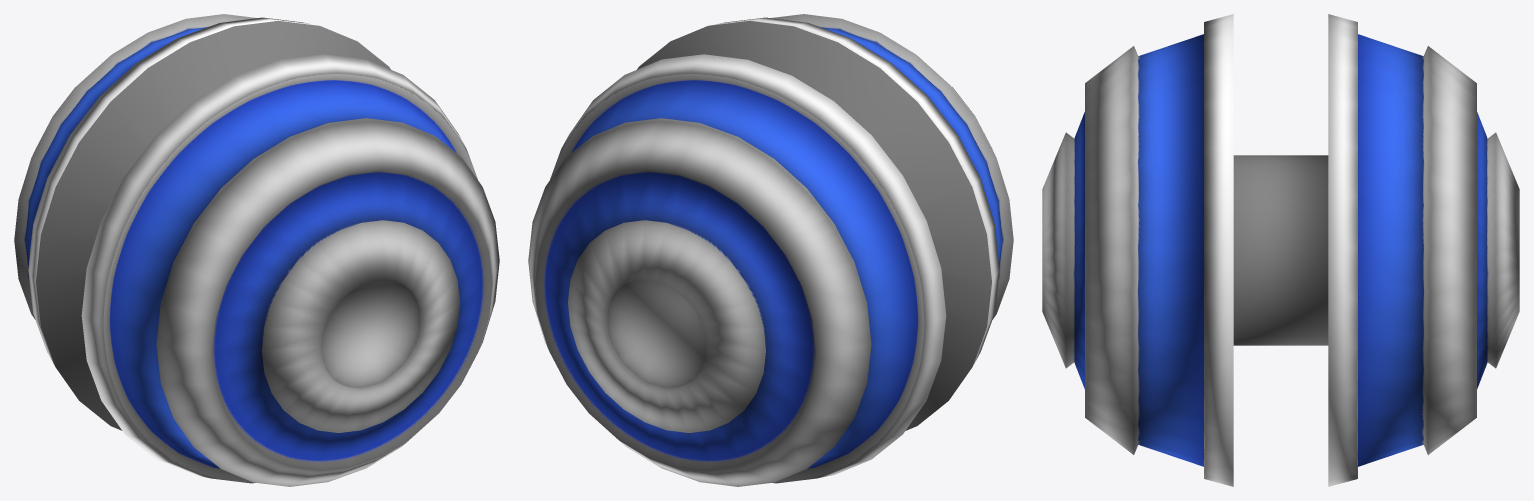
Rendered from SplitMetalBall.FBX.
The picture shows the model from 3 angles, left to right: view 1: azimuth 30°, elevation 25°; view 2: azimuth 150°, elevation 25°; view 3: azimuth 270°, elevation 25°; orthographic projection. The views are drawn at different scales.
Visible parts, largest first — view 1: SplitMetalBall; view 2: SplitMetalBall; view 3: SplitMetalBall.
Boxes of the visible parts, x1,y1,x2,y2 form: SplitMetalBall: [14, 14, 499, 486]; SplitMetalBall: [528, 14, 1013, 486]; SplitMetalBall: [1042, 14, 1519, 486].
Size of the model in its own units: 39.37 by 39.37 by 39.73.
